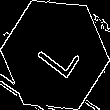L_NW: (28, 28, 82, 82)
